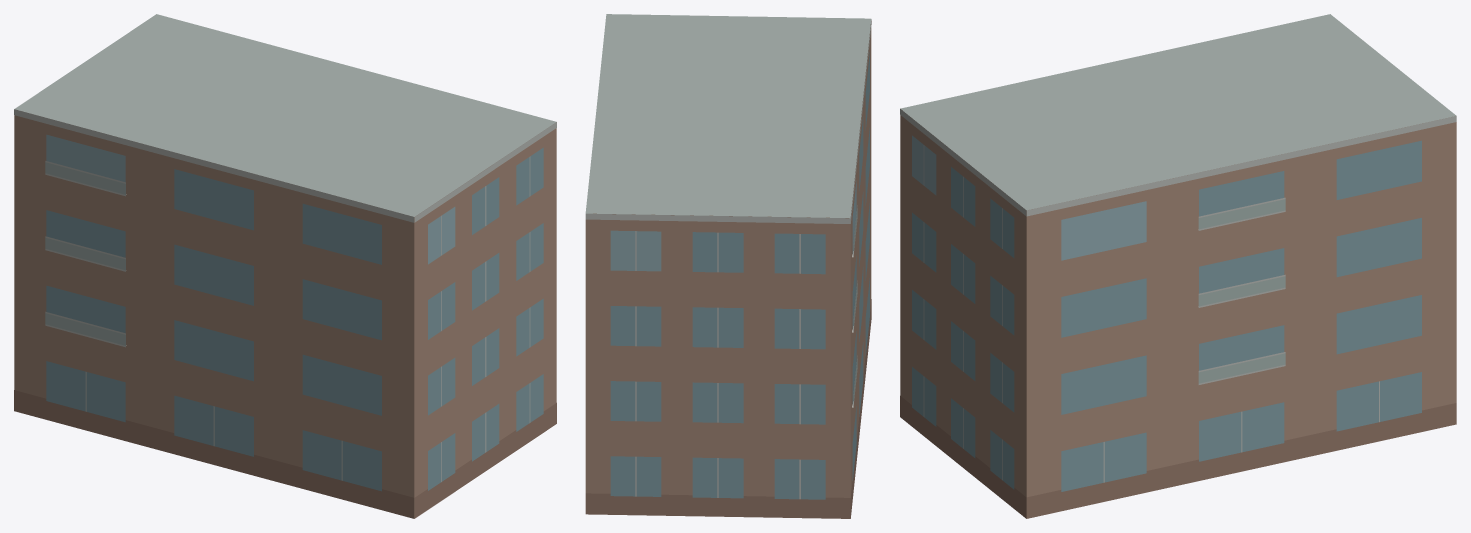
File: survey-upis-33044288.glb
3 renders of one model, left to right at view 1: azimuth 30°, elevation 25°; view 2: azimuth 150°, elevation 25°; view 3: azimuth 270°, elevation 25°, orthographic. The views are drawn at different scales.
Visible parts, largest first — view 1: survey-upis-33044288.tmp; view 2: survey-upis-33044288.tmp; view 3: survey-upis-33044288.tmp.
Boxes of the visible parts, x1,y1,x2,y2 form: survey-upis-33044288.tmp: [14, 14, 556, 518]; survey-upis-33044288.tmp: [585, 14, 871, 518]; survey-upis-33044288.tmp: [900, 14, 1456, 518].
Bounding box in the file's own units: 16.8 × 12.3 × 20.12.
